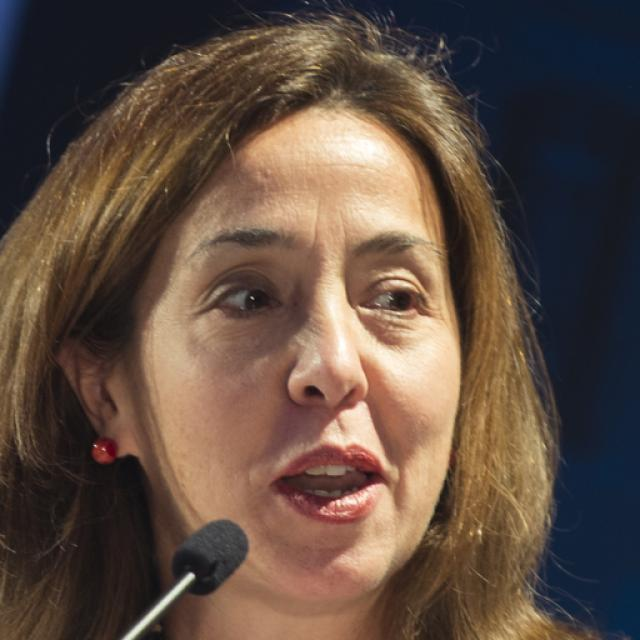surprise: (144, 102, 462, 608)
